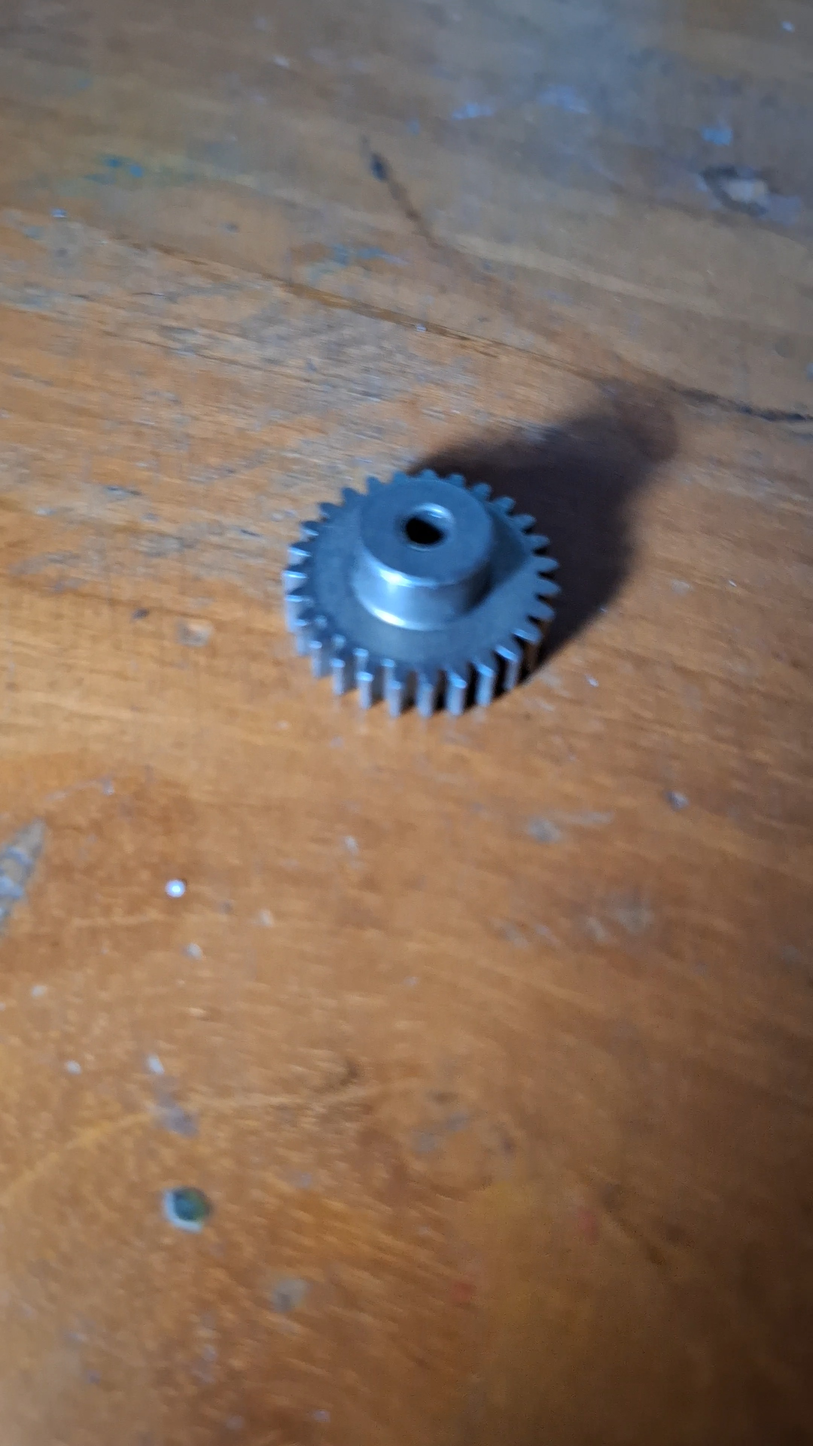spur gear: (283, 471, 559, 714)
